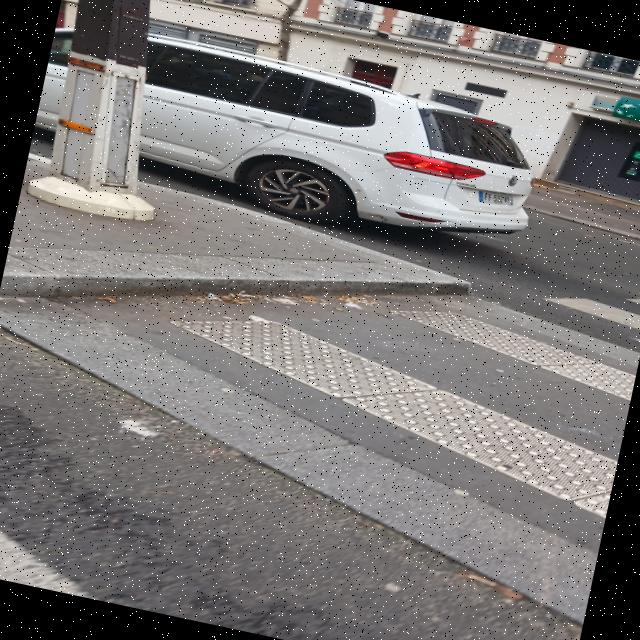Autre: (480, 187, 526, 214)
